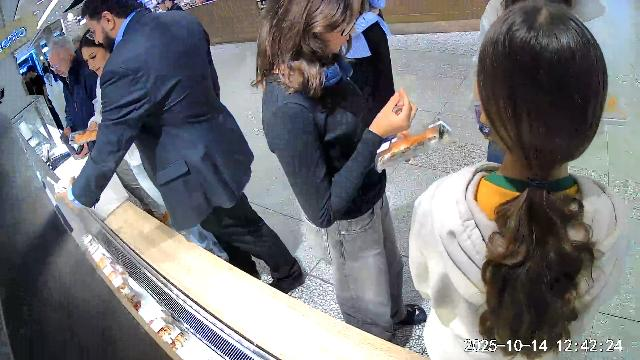sushi-box: (376, 117, 461, 171), (68, 130, 98, 145)
